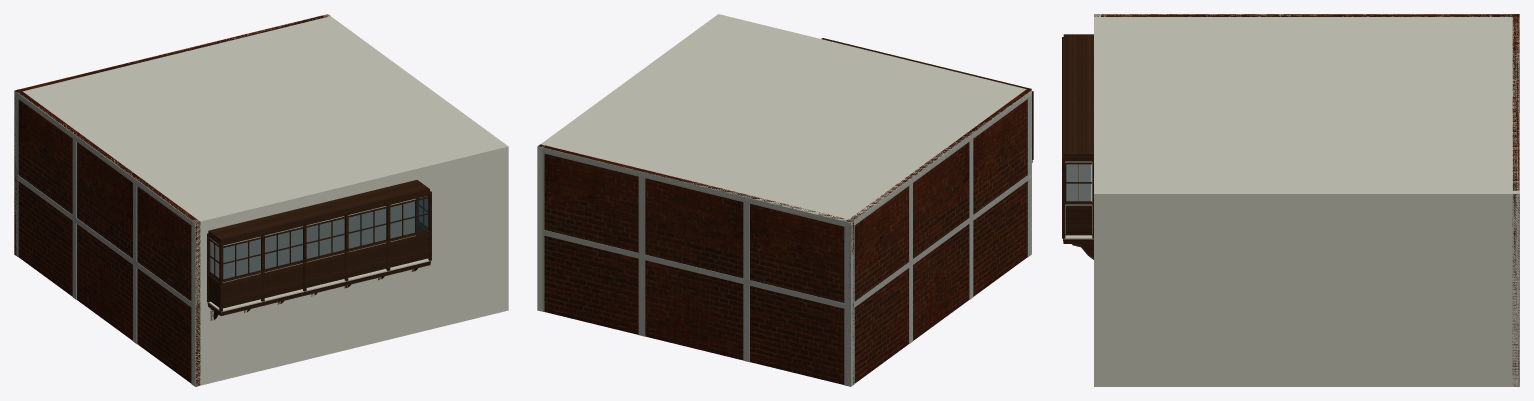
Rendered from building.glb.
3 renders of one model, left to right at view 1: azimuth 30°, elevation 25°; view 2: azimuth 150°, elevation 25°; view 3: azimuth 270°, elevation 25°, orthographic. The views are drawn at different scales.
Visible parts, largest first — view 1: roof/house:0/roof_slab#0001, house:0/edge0/z0/house:0/edge0/z0/wall_0_0, house:0/edge3/z0/house:0/edge3/z0/wall_0_0, balcony/sample/balcony_cover#0001, house:0/edge2/z0/house:0/edge2/z0/wall_0_0, house:0/edge3/z0/house:0/edge3/z0/beam_0_0, house:0/edge3/z0/house:0/edge3/z0/beam_1_0, house:0/edge1/z0/house:0/edge1/z0/wall_0_0, balcony/sample/balcony_panel#0004, balcony/sample/balcony_panel#0006, balcony/sample/balcony_panel#0003, balcony/sample/balcony_panel#0005 (+4 smaller); view 2: roof/house:0/roof_slab#0001, house:0/edge2/z0/house:0/edge2/z0/wall_0_0, house:0/edge3/z0/house:0/edge3/z0/wall_0_0, house:0/edge1/z0/house:0/edge1/z0/wall_0_0, house:0/edge2/z0/house:0/edge2/z0/beam_0_0, house:0/edge2/z0/house:0/edge2/z0/beam_1_0, house:0/edge3/z0/house:0/edge3/z0/beam_0_0, house:0/edge0/z0/house:0/edge0/z0/wall_0_0, house:0/edge3/z0/house:0/edge3/z0/beam_1_0, house:0/edge2/z0/house:0/edge2/z0/column_2_0, house:0/edge2/z0/house:0/edge2/z0/column_1_1, house:0/edge2/z0/house:0/edge2/z0/column_2_1 (+4 smaller); view 3: house:0/edge1/z0/house:0/edge1/z0/wall_0_0, roof/house:0/roof_slab#0001, balcony/sample/balcony_cover#0001, house:0/edge0/z0/house:0/edge0/z0/wall_0_0, house:0/edge2/z0/house:0/edge2/z0/wall_0_0, house:0/edge3/z0/house:0/edge3/z0/wall_0_0, balcony/sample/balcony_platform#0001, balcony/sample/balcony_panel#0007, balcony/sample/balcony_enclosure_glass#0019, balcony/sample/balcony_enclosure_glass#0018.
Boxes of the visible parts, left/top/right/bottom form: roof/house:0/roof_slab#0001: left=16, top=15, right=507, bottom=225; house:0/edge0/z0/house:0/edge0/z0/wall_0_0: left=192, top=144, right=508, bottom=386; house:0/edge3/z0/house:0/edge3/z0/wall_0_0: left=17, top=89, right=200, bottom=386; balcony/sample/balcony_cover#0001: left=208, top=180, right=429, bottom=242; house:0/edge2/z0/house:0/edge2/z0/wall_0_0: left=14, top=14, right=329, bottom=255; house:0/edge3/z0/house:0/edge3/z0/beam_0_0: left=14, top=173, right=195, bottom=309; house:0/edge3/z0/house:0/edge3/z0/beam_1_0: left=14, top=91, right=195, bottom=228; house:0/edge1/z0/house:0/edge1/z0/wall_0_0: left=323, top=14, right=508, bottom=311; balcony/sample/balcony_panel#0004: left=306, top=253, right=345, bottom=287; balcony/sample/balcony_panel#0006: left=390, top=233, right=429, bottom=267; balcony/sample/balcony_panel#0003: left=264, top=263, right=303, bottom=297; balcony/sample/balcony_panel#0005: left=348, top=243, right=387, bottom=277; roof/house:0/roof_slab#0001: left=540, top=14, right=1031, bottom=225; house:0/edge2/z0/house:0/edge2/z0/wall_0_0: left=538, top=144, right=853, bottom=384; house:0/edge3/z0/house:0/edge3/z0/wall_0_0: left=846, top=89, right=1030, bottom=383; house:0/edge1/z0/house:0/edge1/z0/wall_0_0: left=537, top=14, right=721, bottom=311; house:0/edge2/z0/house:0/edge2/z0/beam_0_0: left=542, top=230, right=851, bottom=310; house:0/edge2/z0/house:0/edge2/z0/beam_1_0: left=538, top=146, right=851, bottom=228; house:0/edge3/z0/house:0/edge3/z0/beam_0_0: left=850, top=172, right=1031, bottom=309; house:0/edge0/z0/house:0/edge0/z0/wall_0_0: left=716, top=14, right=1031, bottom=253; house:0/edge3/z0/house:0/edge3/z0/beam_1_0: left=850, top=90, right=1031, bottom=227; house:0/edge2/z0/house:0/edge2/z0/column_2_0: left=638, top=177, right=645, bottom=254; house:0/edge2/z0/house:0/edge2/z0/column_1_1: left=844, top=227, right=851, bottom=304; house:0/edge2/z0/house:0/edge2/z0/column_2_1: left=638, top=259, right=645, bottom=336; house:0/edge1/z0/house:0/edge1/z0/wall_0_0: left=1094, top=191, right=1519, bottom=386; roof/house:0/roof_slab#0001: left=1094, top=14, right=1519, bottom=198; balcony/sample/balcony_cover#0001: left=1063, top=34, right=1093, bottom=157; house:0/edge0/z0/house:0/edge0/z0/wall_0_0: left=1094, top=14, right=1100, bottom=386; house:0/edge2/z0/house:0/edge2/z0/wall_0_0: left=1512, top=14, right=1519, bottom=386; house:0/edge3/z0/house:0/edge3/z0/wall_0_0: left=1094, top=14, right=1519, bottom=16; balcony/sample/balcony_platform#0001: left=1064, top=161, right=1093, bottom=239; balcony/sample/balcony_panel#0007: left=1065, top=205, right=1091, bottom=235; balcony/sample/balcony_enclosure_glass#0019: left=1079, top=164, right=1091, bottom=201; balcony/sample/balcony_enclosure_glass#0018: left=1066, top=164, right=1077, bottom=201.
Bounding box in the file's own units: 12 × 6 × 12.89.
Materials: 5 (2 with a texture image).
